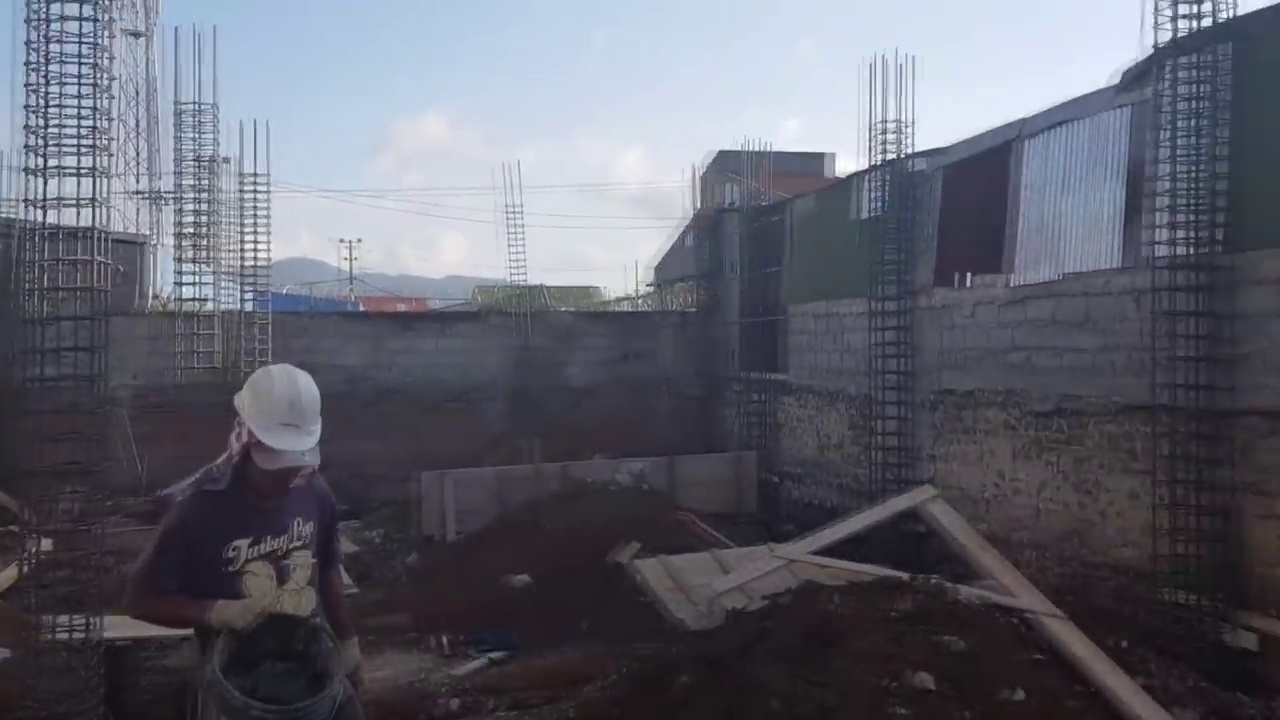helmet: (228, 367, 324, 460)
helmet-on: (221, 357, 326, 502)
person: (123, 361, 366, 684)
